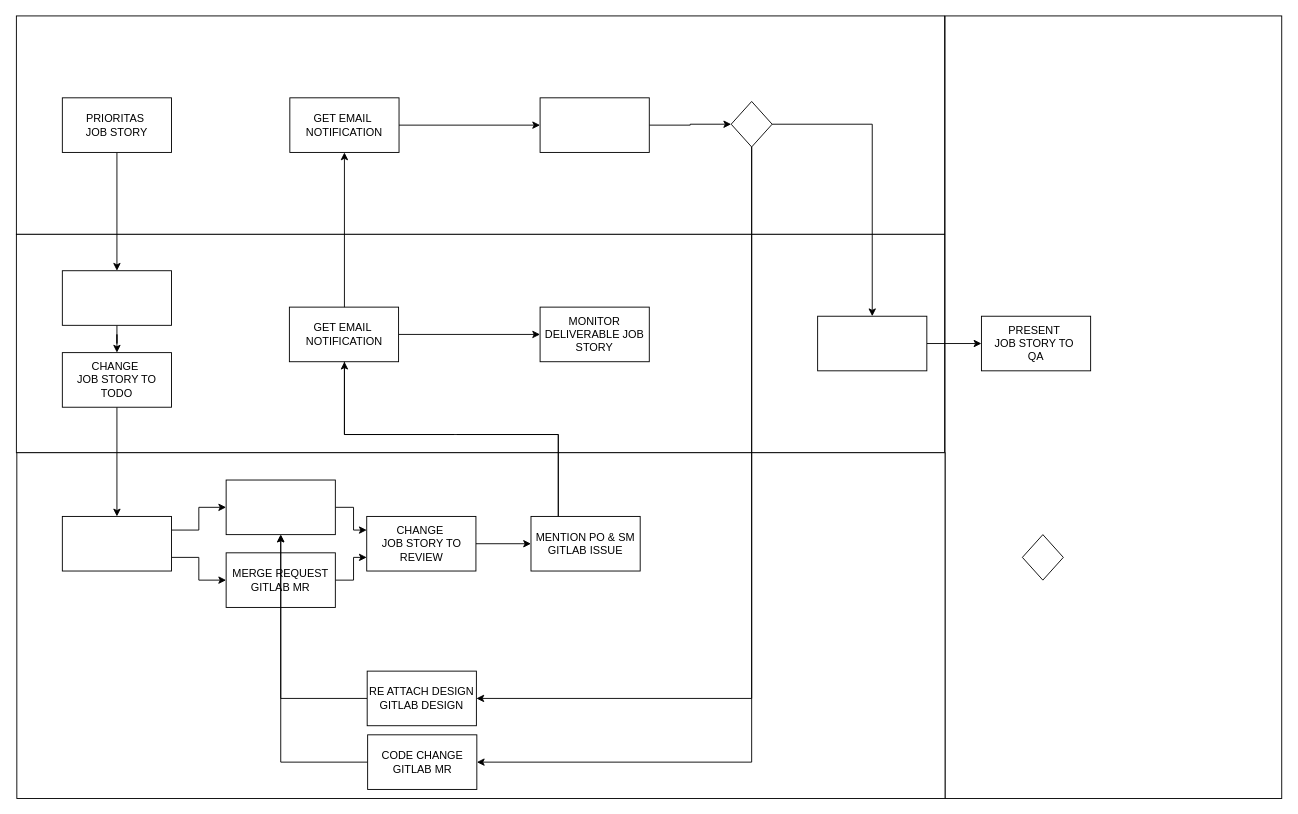
The diagram is 1298 pixels wide and 814 high, and some of its shapes have lost their labels. The shapes that lost their labels are listed below. From the top down, each one's centre as x and y in pixels, then its label:
At pixel 594 124: "REVIEW JOB STORY USING GITLAB DESIGN".
At pixel 116 297: "ASSIGMENT JOB STORY".
At pixel 872 343: "CHANGE JOB STORY TO DAILY REVIEW".
At pixel 280 507: "ATTACH DESIGN GITLAB DESIGN".
At pixel 116 543: "CHANGE JOB STORY TO DOING".
